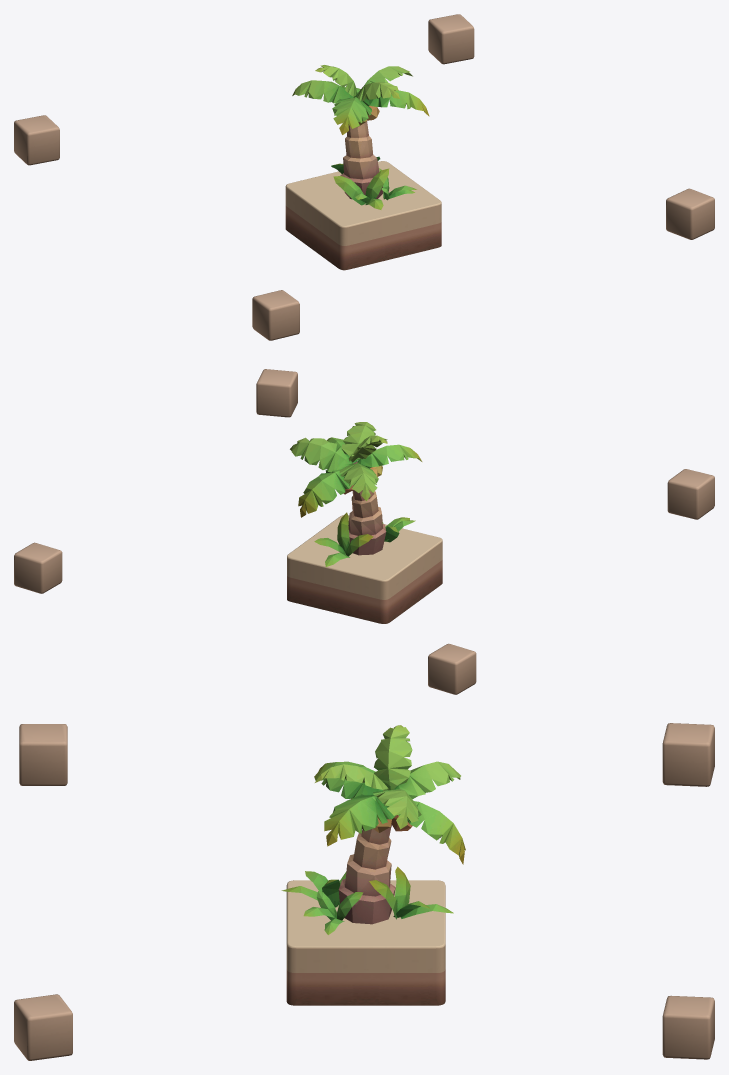
File: Props.fbx
The picture shows the model from 3 angles, top to bottom: view 1: azimuth 30°, elevation 25°; view 2: azimuth 150°, elevation 25°; view 3: azimuth 270°, elevation 25°; orthographic projection. The views are drawn at different scales.
Parts seen in each view (by area): view 1: Box02, yezishu02, Box1-6 (2), Box1-6 (4), Box1-6 (1), Box1-6 (3); view 2: Box02, yezishu02, Box1-6 (1), Box1-6 (3), Box1-6 (4), Box1-6 (2); view 3: yezishu02, Box02, Box1-6 (2), Box1-6 (3), Box1-6 (1), Box1-6 (4).
Boxes of the visible parts, x1,y1,x2,y2 form: Box02: (285, 161, 441, 270); yezishu02: (292, 65, 429, 209); Box1-6 (2): (666, 188, 714, 239); Box1-6 (4): (252, 290, 299, 340); Box1-6 (1): (428, 14, 474, 64); Box1-6 (3): (14, 115, 59, 165); Box02: (287, 515, 442, 623); yezishu02: (290, 422, 422, 566); Box1-6 (1): (14, 542, 62, 593); Box1-6 (3): (428, 643, 476, 694); Box1-6 (4): (667, 469, 714, 519); Box1-6 (2): (256, 369, 297, 417); yezishu02: (281, 725, 465, 934); Box02: (286, 880, 445, 1005); Box1-6 (2): (14, 994, 72, 1060); Box1-6 (3): (662, 723, 714, 786); Box1-6 (1): (662, 995, 714, 1059); Box1-6 (4): (19, 724, 67, 785).
Size of the model in its own units: 28.24 by 10.12 by 28.24.
